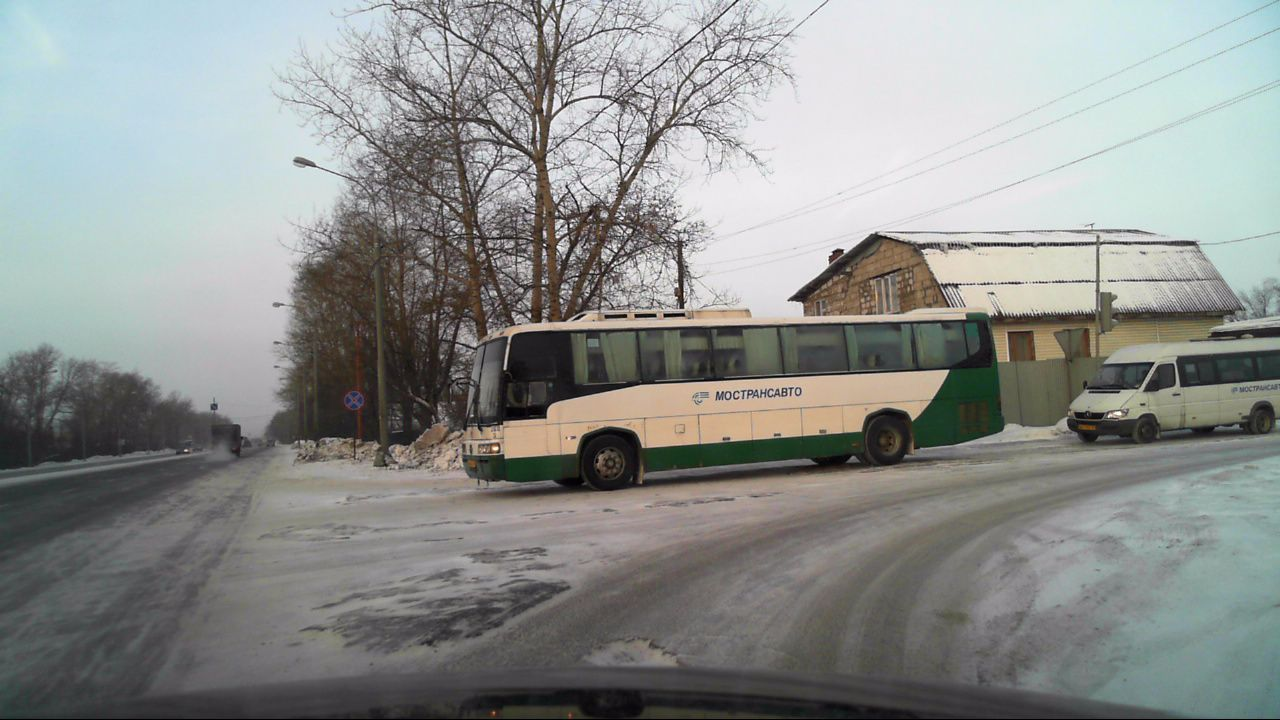No Parking: (344, 387, 366, 412)
